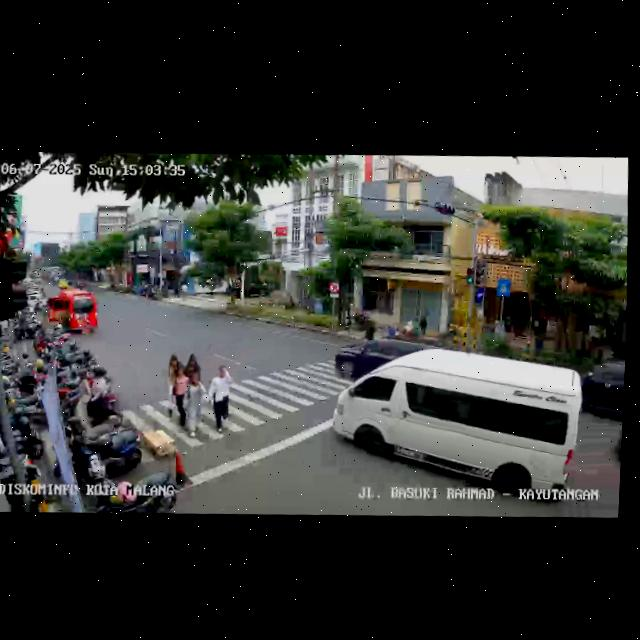car: (326, 338, 588, 513), (332, 331, 438, 382), (577, 355, 625, 434), (42, 288, 99, 338)
person: (207, 364, 235, 439), (184, 366, 210, 438), (161, 350, 183, 421), (171, 360, 190, 432), (182, 353, 203, 389)
